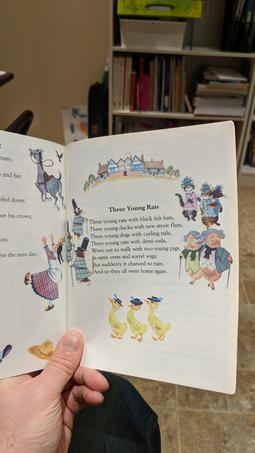text block: (77, 199, 186, 276), (1, 143, 44, 266)
